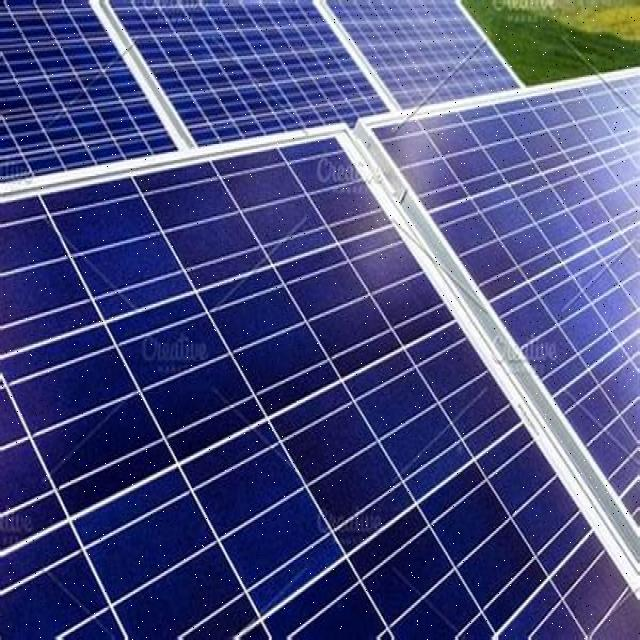clean: (3, 7, 638, 633)
